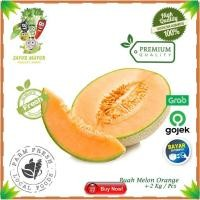Melon: (32, 87, 121, 167)
